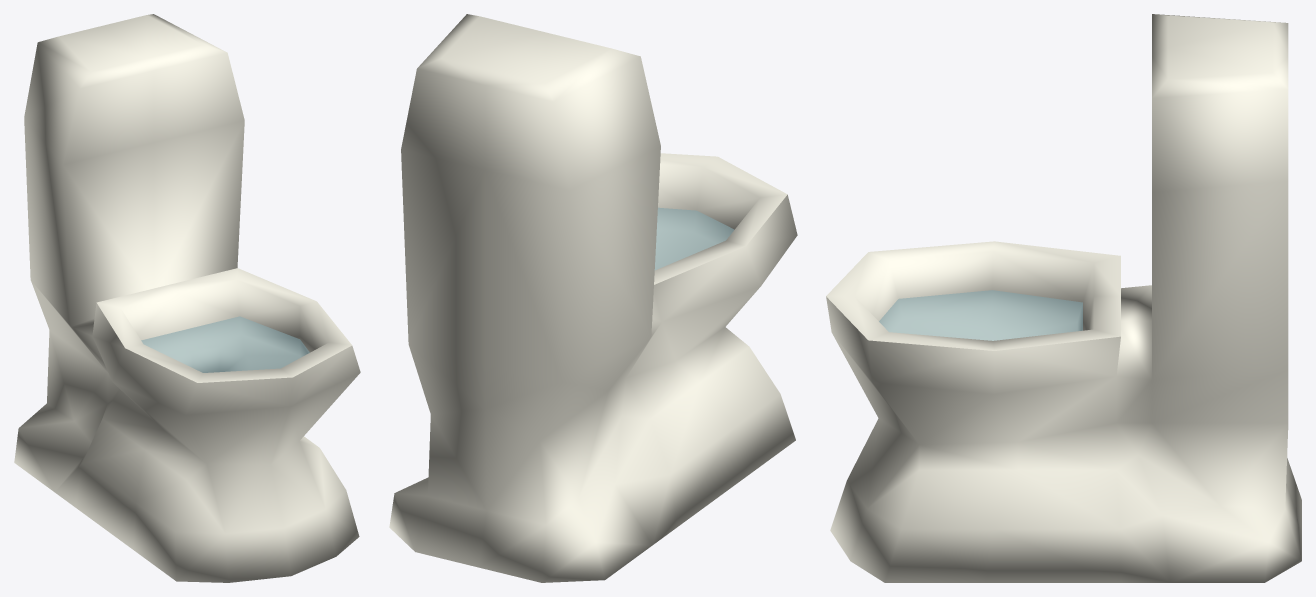
The model's file is toilet.glb.
3 views of the same model, side by side, from view 1: azimuth 30°, elevation 25°; view 2: azimuth 150°, elevation 25°; view 3: azimuth 270°, elevation 25° (orthographic). The views are drawn at different scales.
Visible parts, largest first — view 1: Cube; view 2: Cube; view 3: Cube.
Boxes of the visible parts, x1,y1,x2,y2 form: Cube: (14,14,360,582); Cube: (389,14,797,582); Cube: (826,14,1301,582).
Size of the model in its own units: 0.5797 by 1.05 by 0.939.
2 materials, 1 textured.
